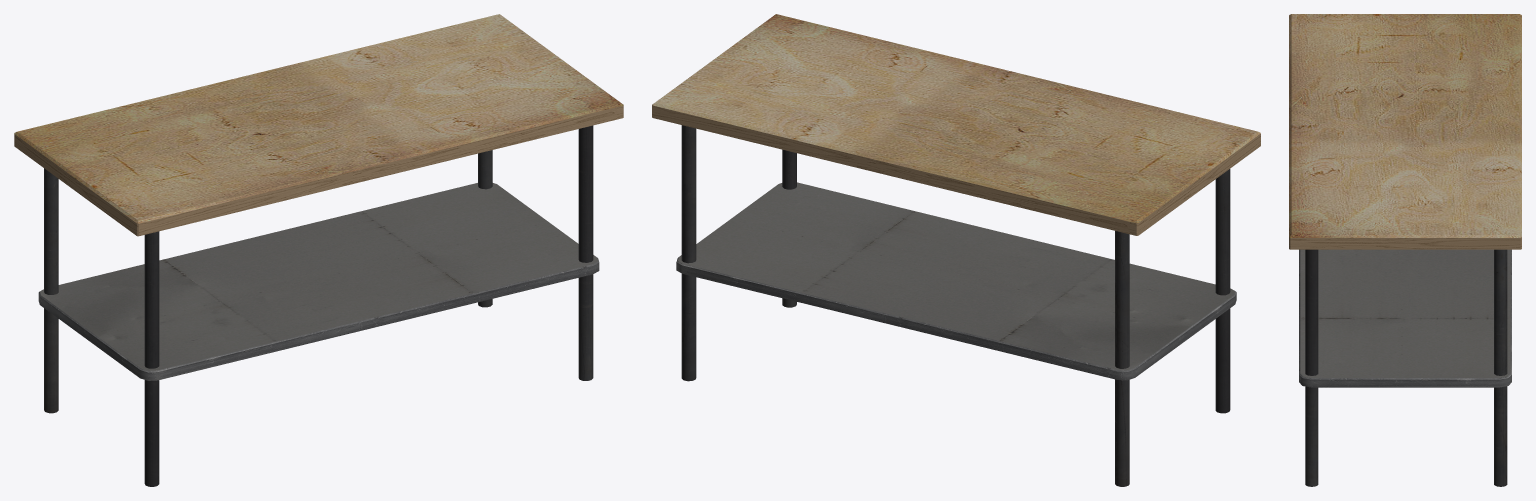
File: worktable-1.FBX
3 renders of one model, left to right at view 1: azimuth 30°, elevation 25°; view 2: azimuth 150°, elevation 25°; view 3: azimuth 270°, elevation 25°, orthographic. The views are drawn at different scales.
Visible parts, largest first — view 1: Cylinder04; view 2: Cylinder04; view 3: Cylinder04.
Boxes of the visible parts, x1,y1,x2,y2 form: Cylinder04: (14, 14, 623, 486); Cylinder04: (652, 14, 1260, 486); Cylinder04: (1289, 14, 1521, 486).
Size of the model in its own units: 68.4 by 37.21 by 30.17.
